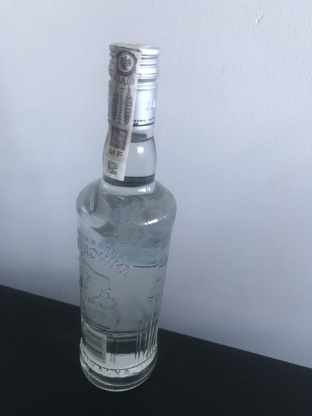nakretka: (105, 37, 162, 134)
